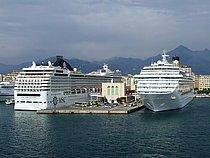Ship: (132, 48, 199, 116), (12, 54, 78, 112)
